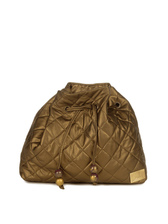bag: (14, 78, 159, 193)
